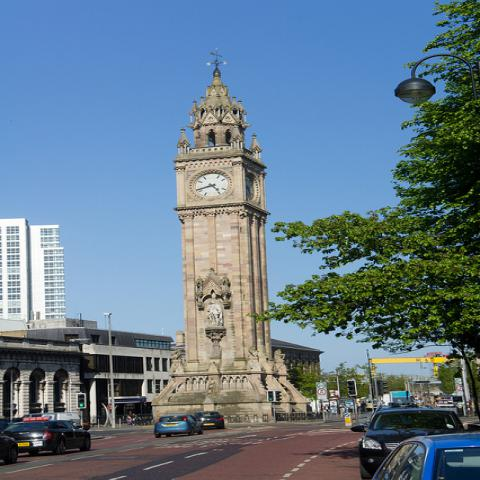car: (348, 410, 467, 467), (372, 433, 479, 479), (3, 416, 91, 456), (153, 414, 202, 438), (0, 432, 20, 464), (195, 411, 225, 430), (366, 400, 386, 411), (83, 418, 91, 430)
